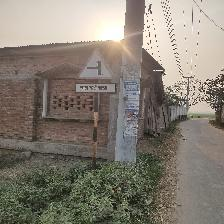Side-road-left: (76, 49, 118, 94)
